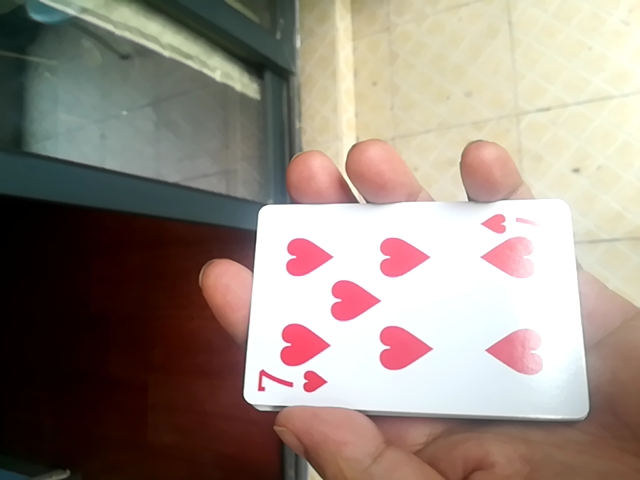hx 7: (240, 200, 588, 420)
